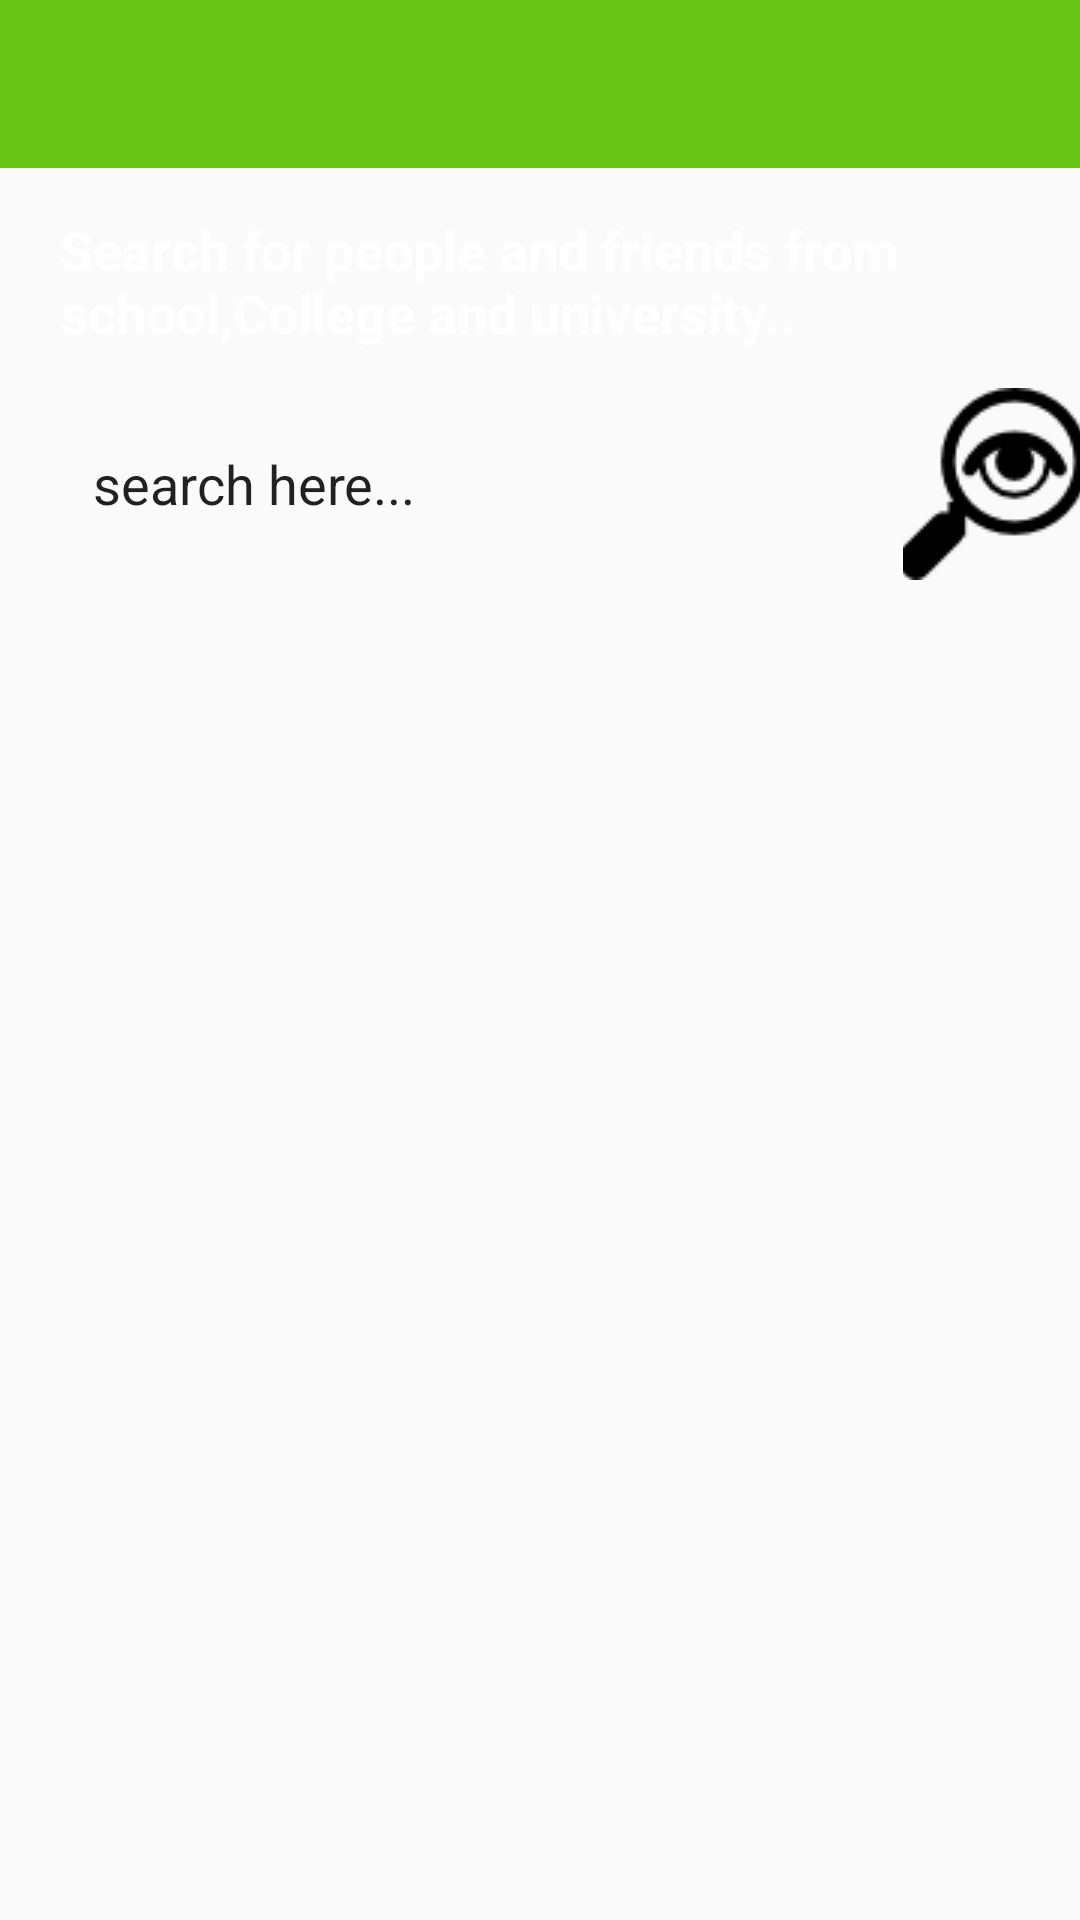

Screen size 1080x1920. Icon name, then its center in pixels as point (x, y):
find friends: point (991, 484)
